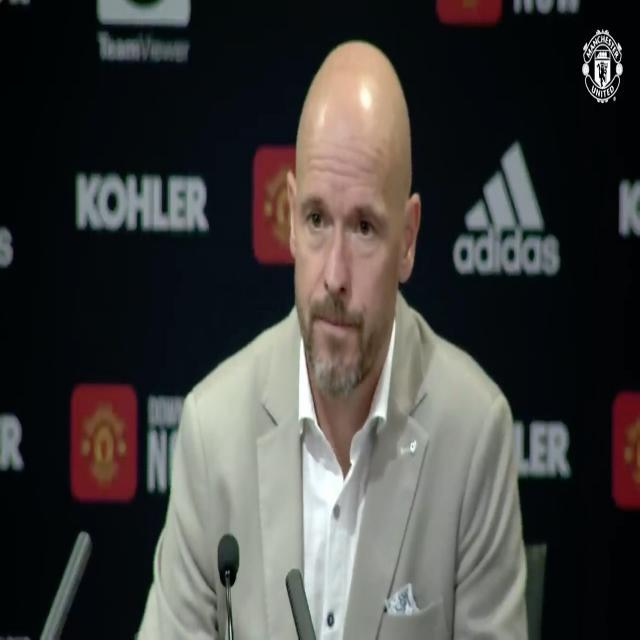Adidas: (452, 141, 562, 276)
Kohler: (77, 170, 208, 234)
TeamViewer: (98, 0, 190, 63)
